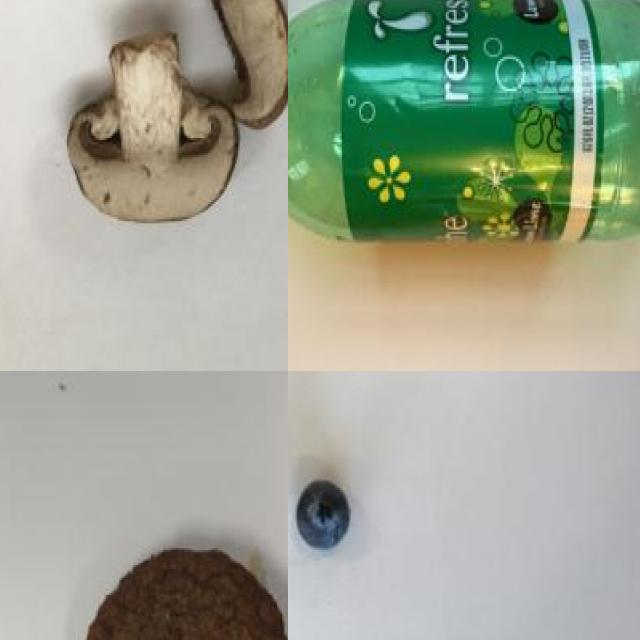compost: (62, 0, 288, 228), (55, 516, 288, 640), (288, 387, 378, 620)
plastic: (288, 0, 640, 244)
